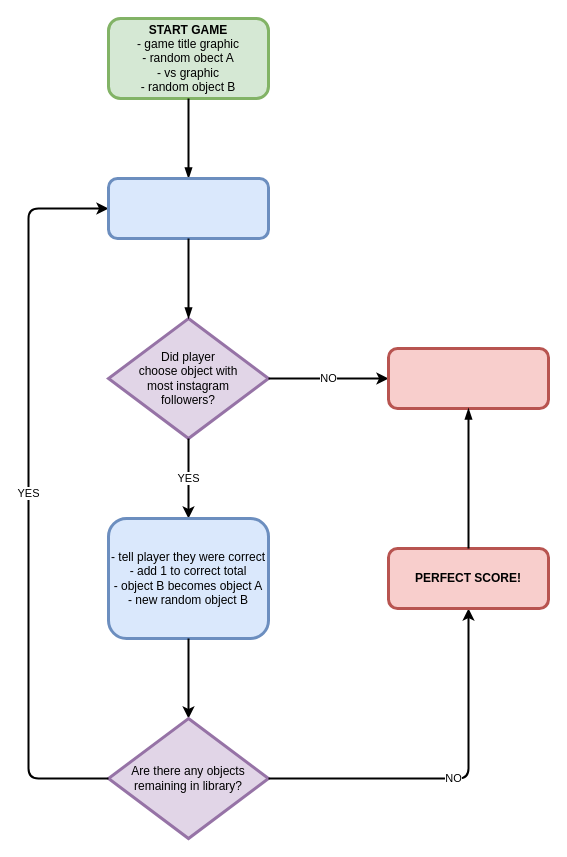
Image size: 567x857. Some labels were removed from this diagram. Here are the shapes that lost their labels. From the top down, the box of each, then its label:
(106, 176, 270, 240): - ask player to enter answer
(386, 346, 550, 410): GAME OVER - reveal total number of correct answers
